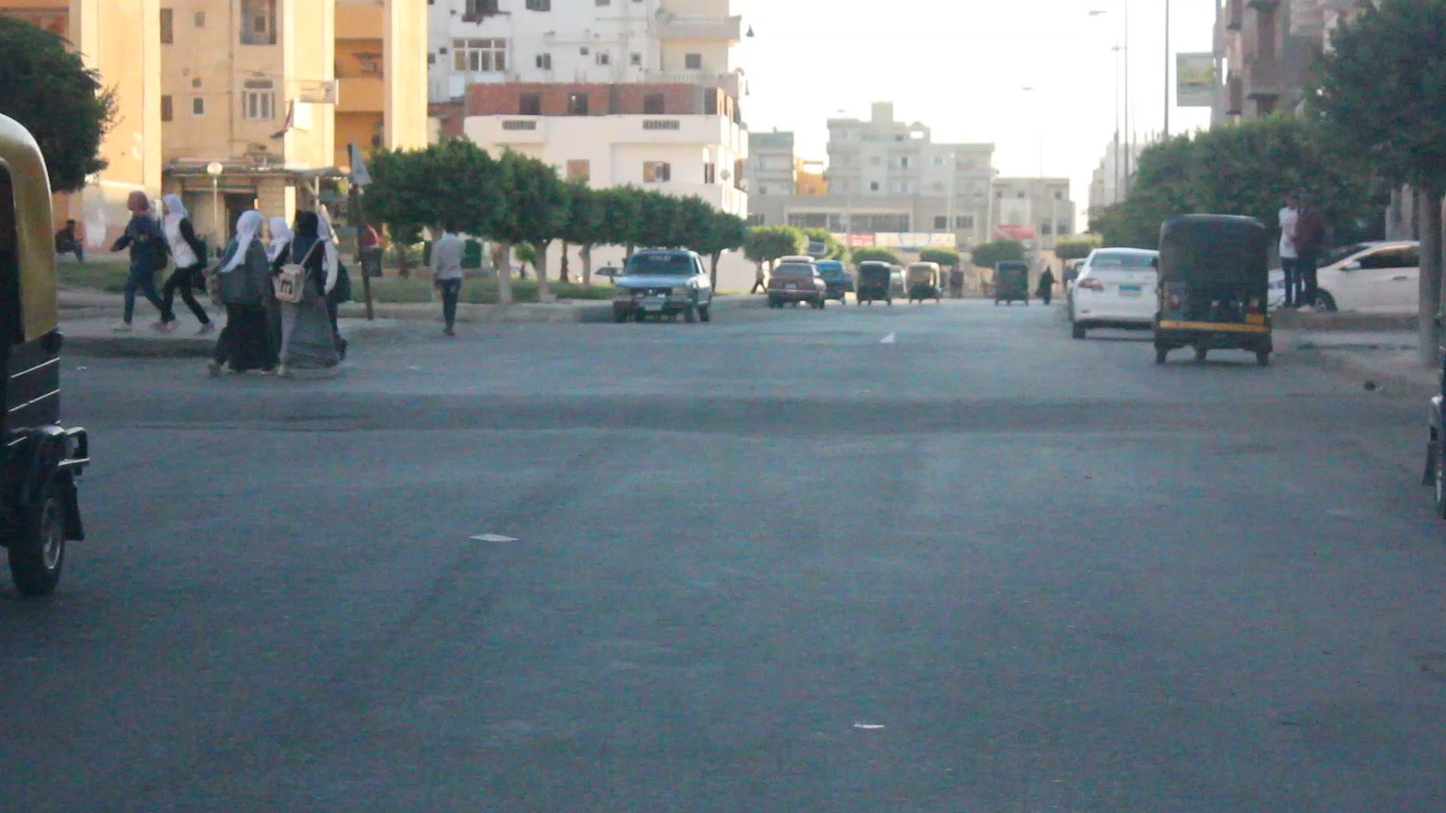Bump: (83, 361, 1433, 448)
